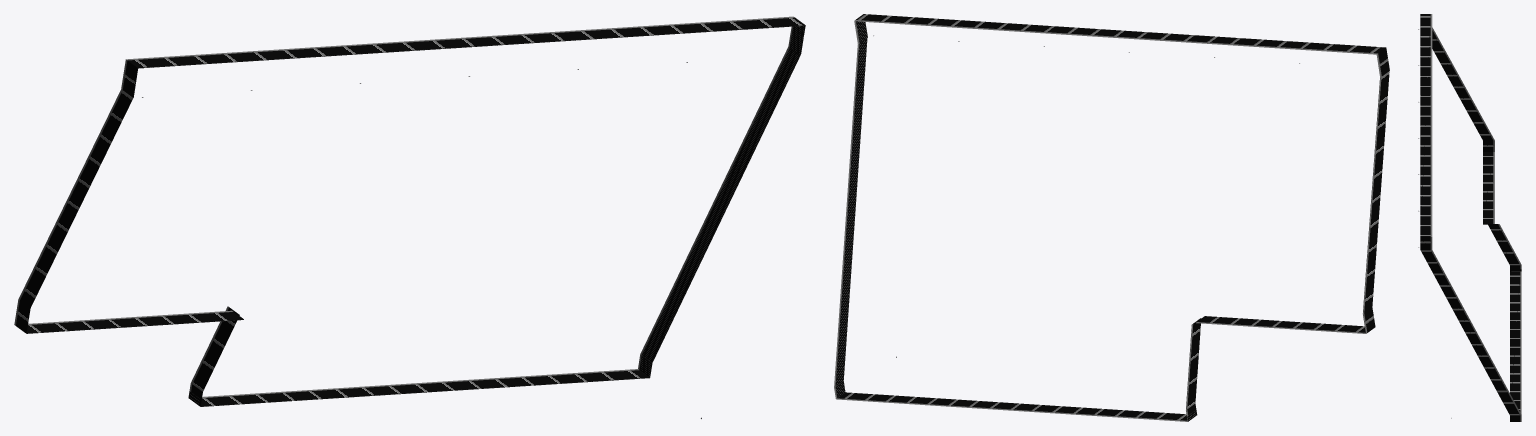
The model's file is _0TRIBUENE_02_019_SUB0_Scene.171.obj.
3 views of the same model, side by side, from view 1: azimuth 30°, elevation 25°; view 2: azimuth 150°, elevation 25°; view 3: azimuth 270°, elevation 25° (orthographic). The views are drawn at different scales.
Parts seen in each view (by area): view 1: _0TRIBUENE_02_019_SUB0_Scene.171; view 2: _0TRIBUENE_02_019_SUB0_Scene.171; view 3: _0TRIBUENE_02_019_SUB0_Scene.171.
Part boxes in pixels (left/top/right/bottom): _0TRIBUENE_02_019_SUB0_Scene.171: left=14, top=16, right=805, bottom=418; _0TRIBUENE_02_019_SUB0_Scene.171: left=834, top=14, right=1389, bottom=421; _0TRIBUENE_02_019_SUB0_Scene.171: left=1418, top=14, right=1521, bottom=421.
Size of the model in its own units: 51.91 by 36.15 by 13.
